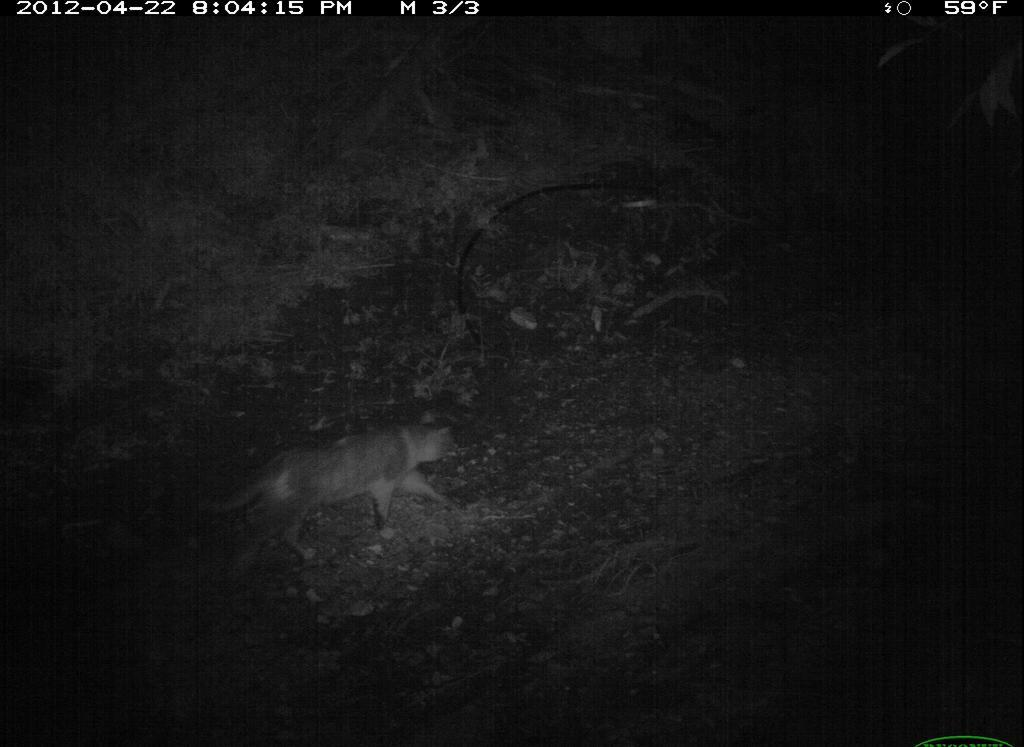cat: (183, 400, 469, 587)
